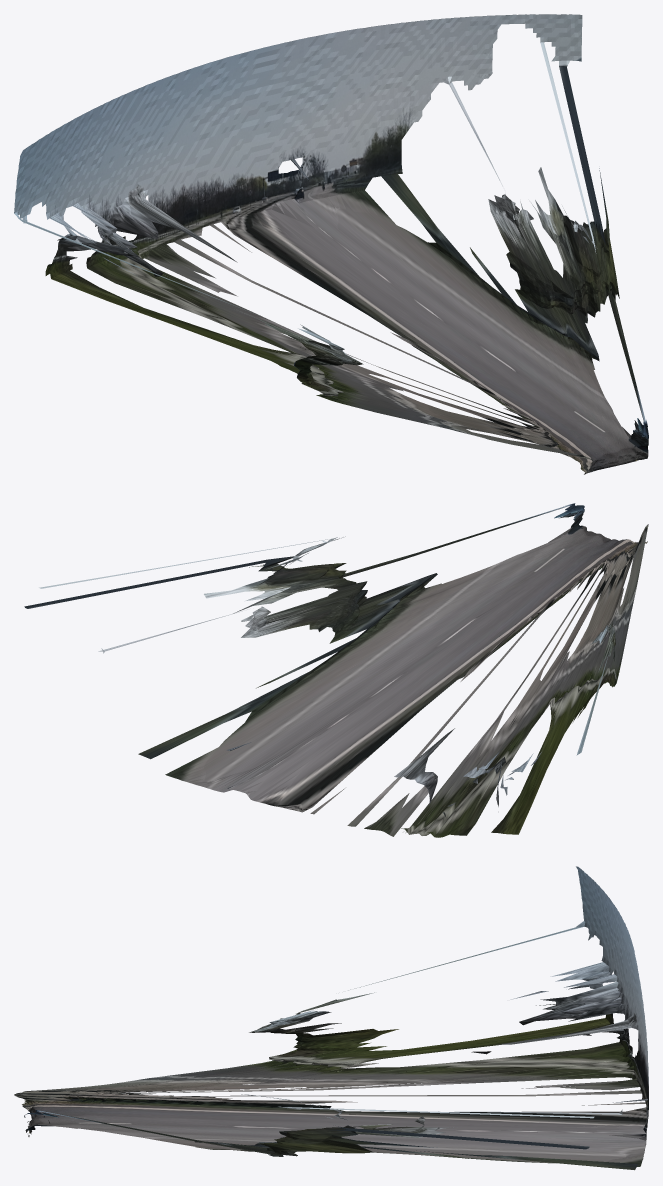
3 renders of one model, top to bottom at view 1: azimuth 30°, elevation 25°; view 2: azimuth 150°, elevation 25°; view 3: azimuth 270°, elevation 25°, orthographic. The views are drawn at different scales.
Parts seen in each view (by area): view 1: defaultobject; view 2: defaultobject; view 3: defaultobject.
Part boxes in pixels (<box>): defaultobject: <box>14,14,648,474</box>; defaultobject: <box>24,503,648,837</box>; defaultobject: <box>14,866,648,1170</box>.
Size of the model in its own units: 40.95 by 12.41 by 45.23.
1 material, 1 textured.
